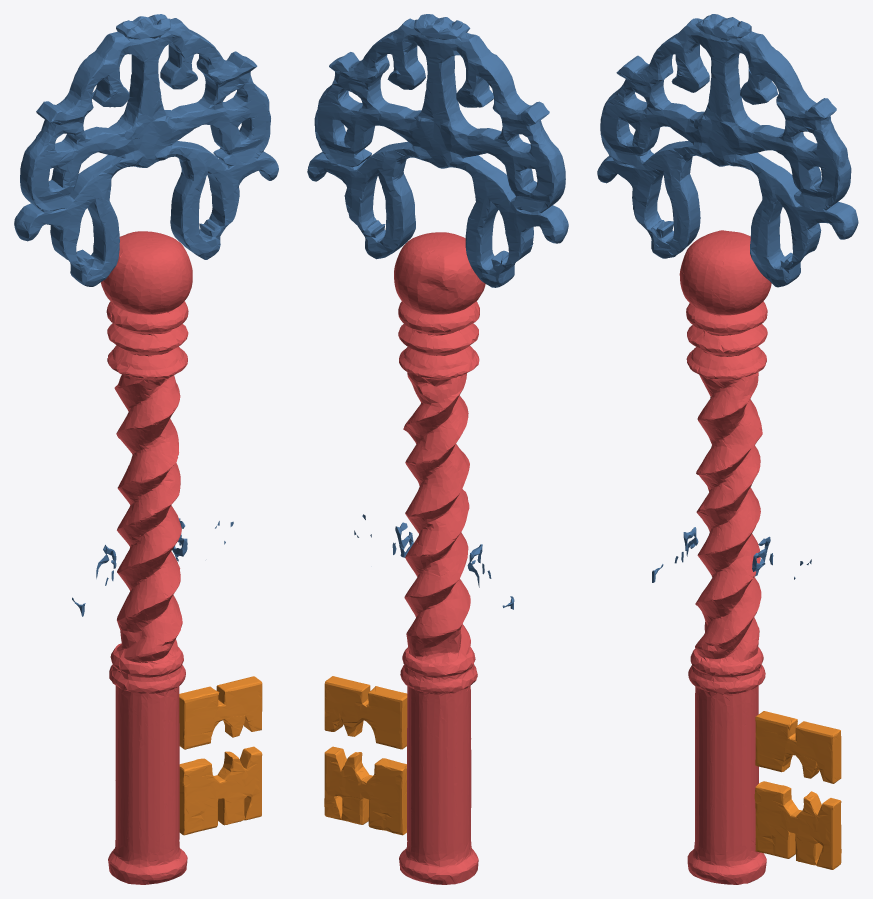
File: key_ours_assembled.glb
3 views of the same model, side by side, from view 1: azimuth 30°, elevation 25°; view 2: azimuth 150°, elevation 25°; view 3: azimuth 330°, elevation 25° (orthographic).
Visible parts, largest first — view 1: part_02, part_00, part_01; view 2: part_02, part_00, part_01; view 3: part_02, part_00, part_01.
Part boxes in pixels (bbox=[...]): part_02: bbox=[101, 231, 192, 884]; part_00: bbox=[14, 14, 278, 616]; part_01: bbox=[179, 676, 262, 835]; part_02: bbox=[394, 232, 485, 884]; part_00: bbox=[307, 14, 568, 609]; part_01: bbox=[324, 676, 407, 835]; part_02: bbox=[679, 230, 771, 884]; part_00: bbox=[597, 14, 858, 582]; part_01: bbox=[754, 711, 841, 869].
Bounding box in the file's own units: 0.3154 × 1 × 0.0976.
